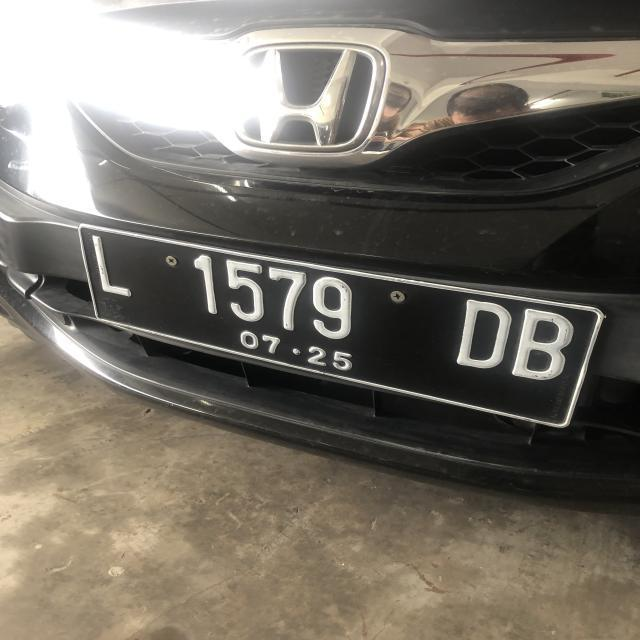1: (189, 252, 223, 314)
5: (224, 256, 268, 324)
7: (264, 267, 310, 331)
9: (308, 274, 357, 342)
B: (511, 308, 573, 385)
D: (451, 294, 508, 376)
L: (90, 232, 138, 296)
